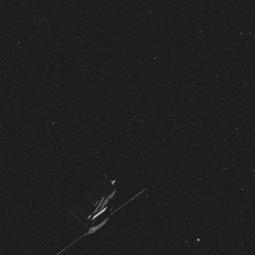soho: (46, 156, 150, 255)
